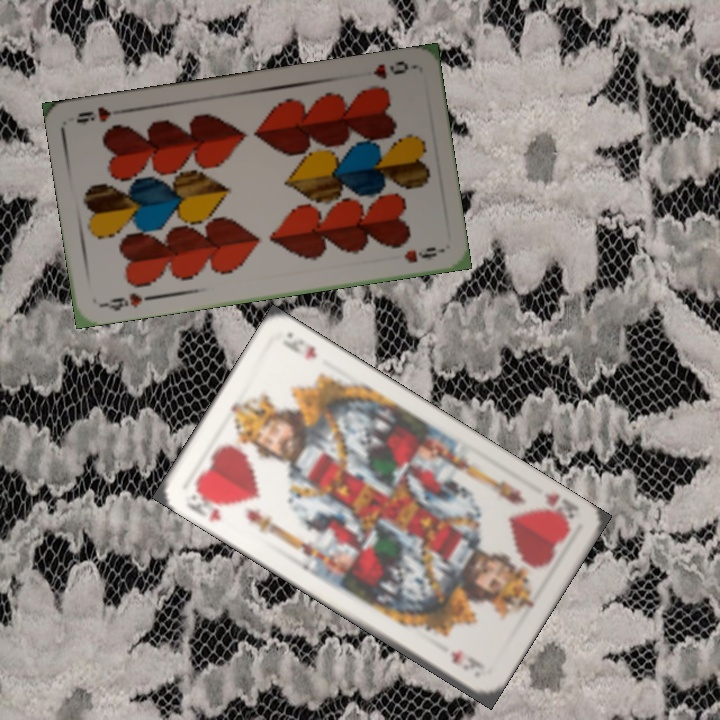H9: (97, 288, 145, 314), (369, 57, 411, 82)
HK: (532, 489, 582, 530), (182, 484, 226, 525)
